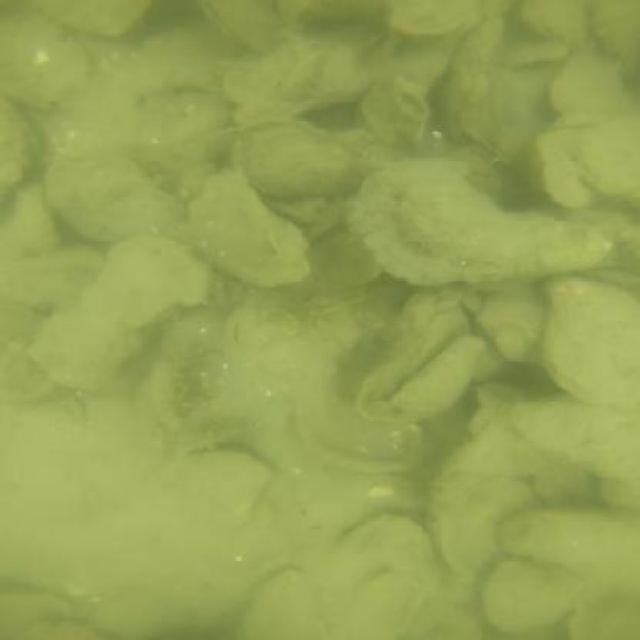Oyster-Closed: (312, 392, 425, 476)
Oyster-Indeterminate: (344, 158, 606, 282), (34, 233, 205, 390), (348, 286, 463, 422), (186, 171, 311, 283), (224, 40, 372, 120), (544, 280, 634, 409), (47, 156, 179, 242), (503, 398, 635, 480), (496, 505, 636, 579), (0, 8, 94, 115), (241, 122, 358, 197), (400, 337, 489, 417), (479, 558, 576, 631), (244, 569, 322, 639), (551, 50, 627, 116), (139, 90, 228, 145), (208, 1, 281, 51), (52, 0, 148, 36), (0, 100, 33, 192), (530, 1, 586, 42)
Oyster-Open: (162, 436, 291, 514)
